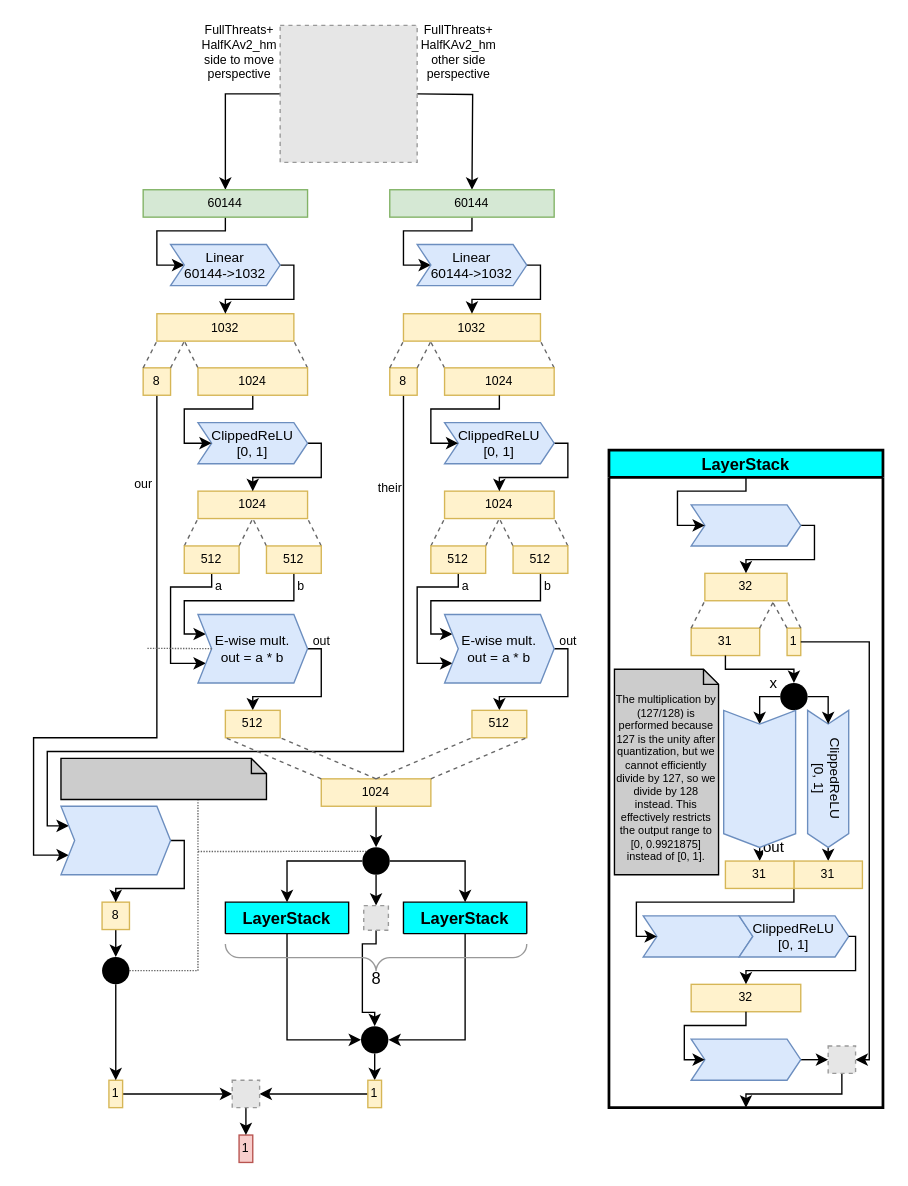
This 908x1186 diagram has some shape labels left out. Grey dashed boxes stand in for pictures. The shapes that lost their labels are listed below. From the top down, each one's centre as x and y in pixels, then its label:
At point 745,524: "Linear 1024->32".
At point 163,778: "Choice based on (popcount(pos.pieces()) - 1) / 4".
At point 759,778: "SqrClippedReLU [0, 1] out = crelu( x*x*(127/128))".
At point 115,840: "Average perspectives (our - their) / 2".
At point 697,935: "Linear 62->32".
At point 745,1059: "Linear 32->1".
